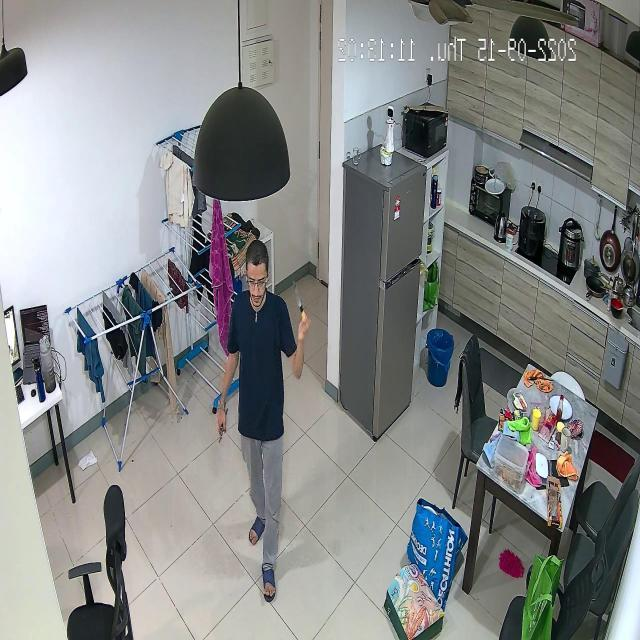Knife: (287, 283, 321, 324)
